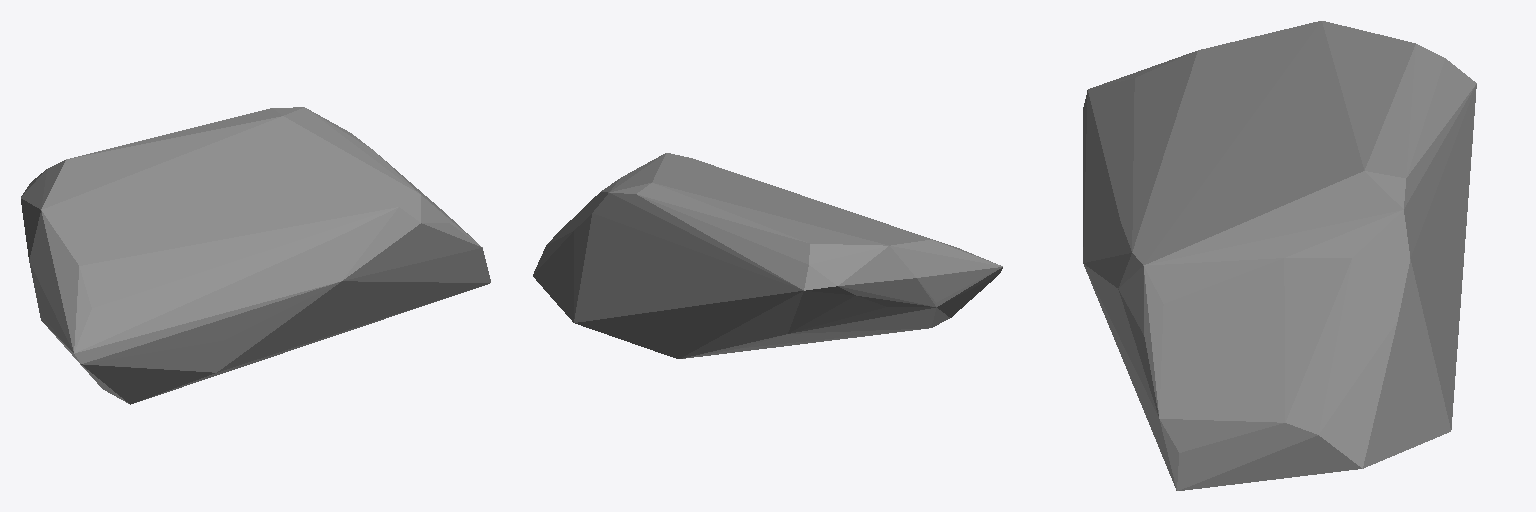
The robot description file, URDF, robot "75_325":
<?xml version="1.0"?>
<robot name="75_325">
  <link name="link">
    <contact>
      <lateral_friction value="0.6"/>
    </contact>
    <inertial>
      <origin xyz="-0.006865022148298159 0.0029678088277972697 0.002469033938440621" rpy="0 0 0"/>
      <mass value = "0.45175619673516076"/>
      <inertia ixx="0.0002027959604467125" ixy="5.5379259479706716e-05" ixz="-9.259557958794295e-06" iyy="0.00033836743372359774" iyz="1.6465637606576707e-05" izz="0.0003486609346316305" />
    </inertial>
    <visual name="visual">
      <geometry>
        <mesh filename="75_325.obj"/>
      </geometry>
      <material name="material">
        <color rgba="0.5872322336074647 0.5872322336074647 0.5872322336074647 1.0"/>
      </material>
    </visual>
    <collision name="collision">
      <geometry>
        <mesh filename="75_325.obj"/>
      </geometry>
    </collision>
  </link>
</robot>

--- What the picture shows (computed from the rendered views, not written in the file) ---
3 views of the same robot in one strip: view 1: azimuth 30°, elevation 25°; view 2: azimuth 150°, elevation 25°; view 3: azimuth 270°, elevation 25° (orthographic).
Model 75_325 with 1 links and 0 joints (none), rooted at link, posed all joints at 0.
Links seen in each view (by area): view 1: link; view 2: link; view 3: link.
Link boxes in pixels (left/top/right/bottom): link: left=21, top=107, right=490, bottom=404; link: left=533, top=153, right=1002, bottom=358; link: left=1083, top=21, right=1476, bottom=490.
Bounding box of the posed robot: 0.1168 × 0.062 × 0.0423 m (x, y, z).
1 mesh visuals loaded from 1 distinct referenced files (1 OBJ).
